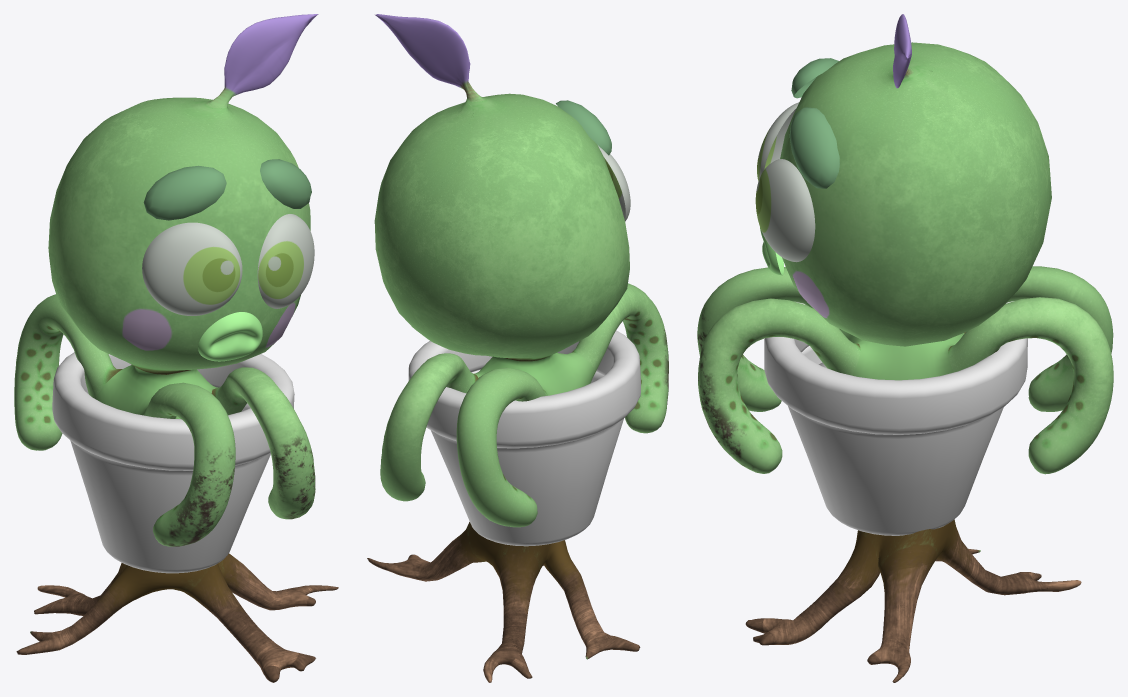
File: Potter(Pose).fbx
The picture shows the model from 3 angles, left to right: view 1: azimuth 30°, elevation 25°; view 2: azimuth 150°, elevation 25°; view 3: azimuth 270°, elevation 25°; orthographic projection. The views are drawn at different scales.
Visible parts, largest first — view 1: Potter_low, Pot, FacePart; view 2: Potter_low, Pot, FacePart; view 3: Potter_low, Pot, FacePart.
Boxes of the visible parts, x1,y1,x2,y2 form: Potter_low: [14, 14, 338, 682]; Pot: [52, 352, 294, 573]; FacePart: [142, 159, 314, 361]; Potter_low: [367, 14, 668, 682]; Pot: [408, 330, 641, 546]; FacePart: [556, 100, 630, 221]; Potter_low: [697, 14, 1113, 682]; Pot: [764, 302, 1027, 535]; FacePart: [755, 58, 839, 275].
Bounding box in the file's own units: 169 × 320 × 187.
